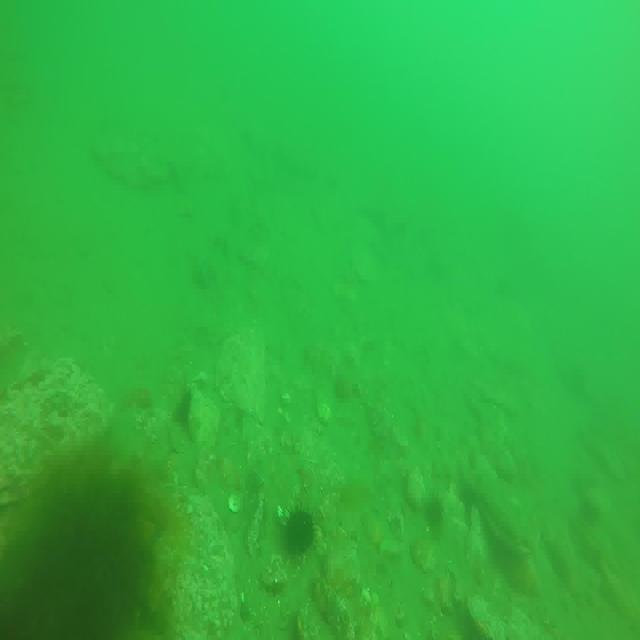echinus: (283, 506, 316, 559), (424, 494, 447, 531)
